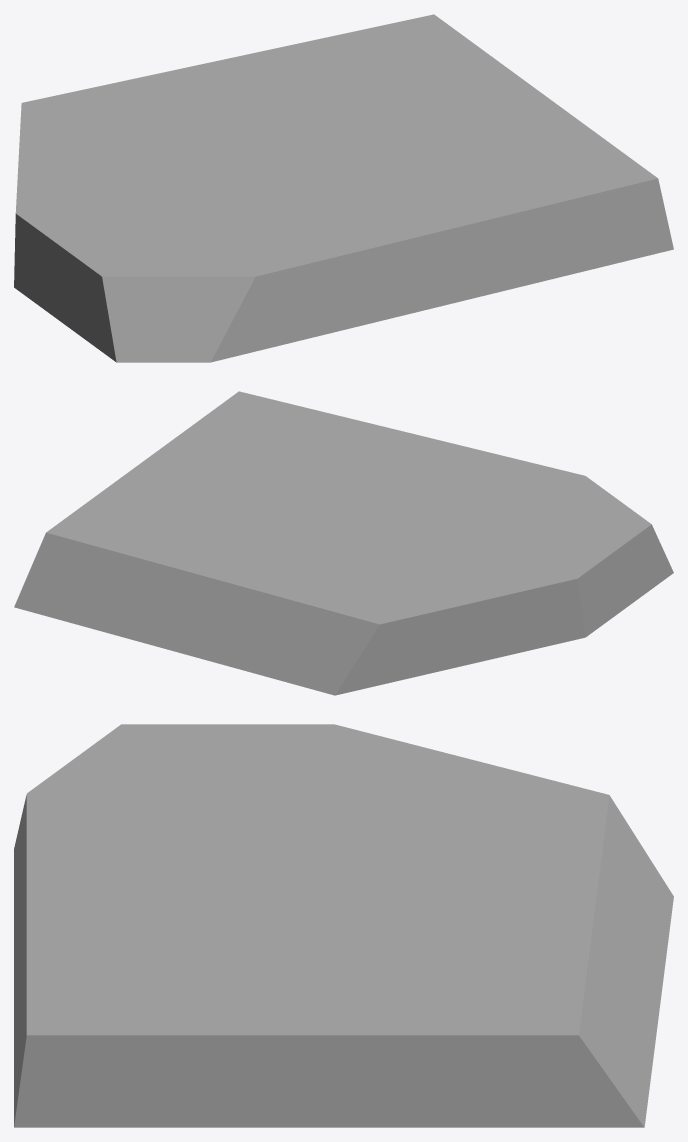
The model's file is Rock_Tile_m_10.fbx.
The picture shows the model from 3 angles, top to bottom: view 1: azimuth 30°, elevation 25°; view 2: azimuth 150°, elevation 25°; view 3: azimuth 270°, elevation 25°; orthographic projection. The views are drawn at different scales.
Parts seen in each view (by area): view 1: Rock_Tile_m_10; view 2: Rock_Tile_m_10; view 3: Rock_Tile_m_10.
Boxes of the visible parts, x1,y1,x2,y2 form: Rock_Tile_m_10: [14, 14, 673, 362]; Rock_Tile_m_10: [14, 391, 673, 695]; Rock_Tile_m_10: [14, 724, 673, 1127].
Size of the model in its own units: 40 by 5 by 34.77.
